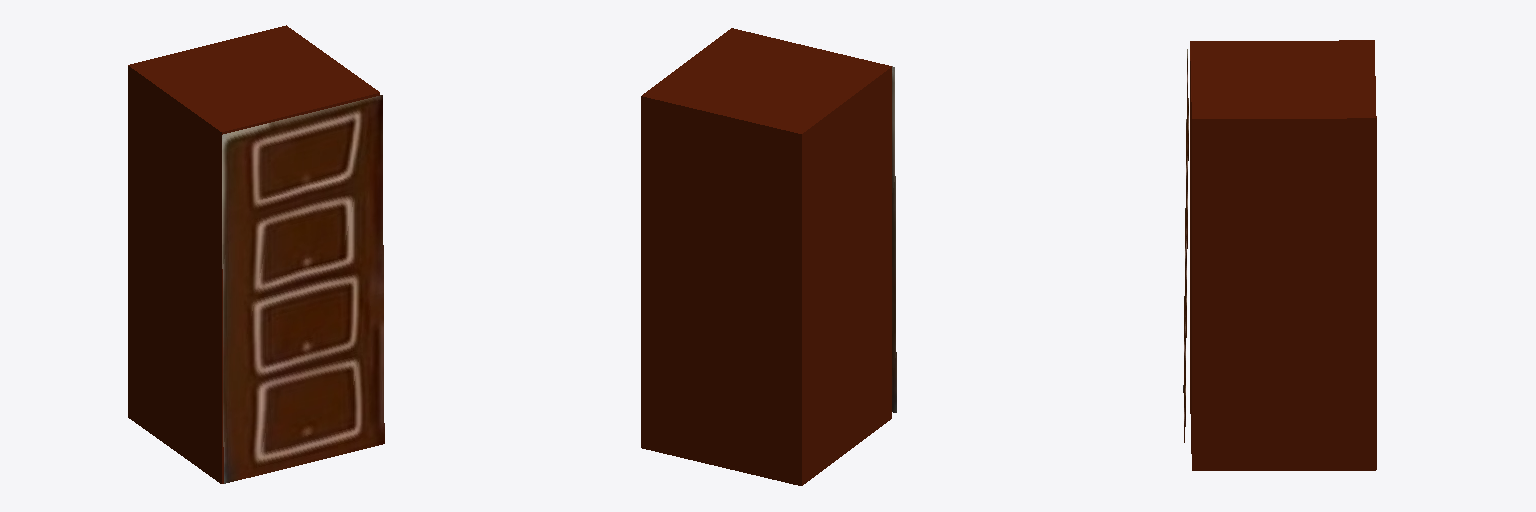
3 renders of one model, left to right at view 1: azimuth 30°, elevation 25°; view 2: azimuth 150°, elevation 25°; view 3: azimuth 270°, elevation 25°, orthographic.
Parts seen in each view (by area): view 1: pPlane3, pCube1; view 2: pCube1, pPlane3; view 3: pCube1, pPlane3.
Boxes of the visible parts, x1=… form: pPlane3: x1=222, y1=95, x2=384, y2=483; pCube1: x1=128, y1=25, x2=379, y2=483; pCube1: x1=641, y1=28, x2=891, y2=485; pPlane3: x1=733, y1=28, x2=896, y2=412; pCube1: x1=1190, y1=40, x2=1376, y2=470; pPlane3: x1=1183, y1=49, x2=1188, y2=442.
Size of the model in its own units: 1.01 by 2.1 by 1.05.
Materials: 2 (2 with a texture image).